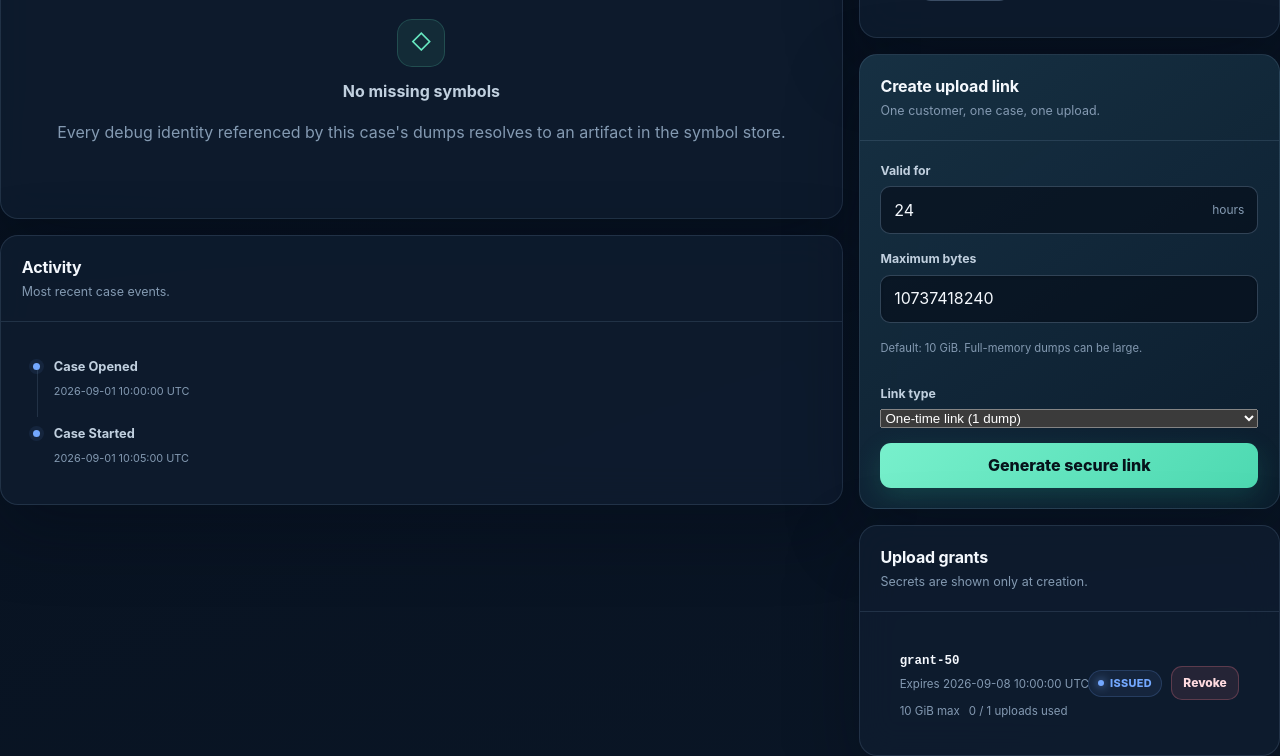
Test case: Upload grant operator flows › creates a batch grant via the bounded dumps-allowed field and shows slot usage
This screenshot has width=1280, height=756.
(page scrolled)
Expected: the text "0 / 1 uploads used" is shown, [969,703,1068,721]
Expected: the field labelled "Dumps allowed" is not shown
Select "Batch link (up to 128 dumps)" in the dropdown labelled "Link type" at [1069, 418], box [880,409,1258,428]
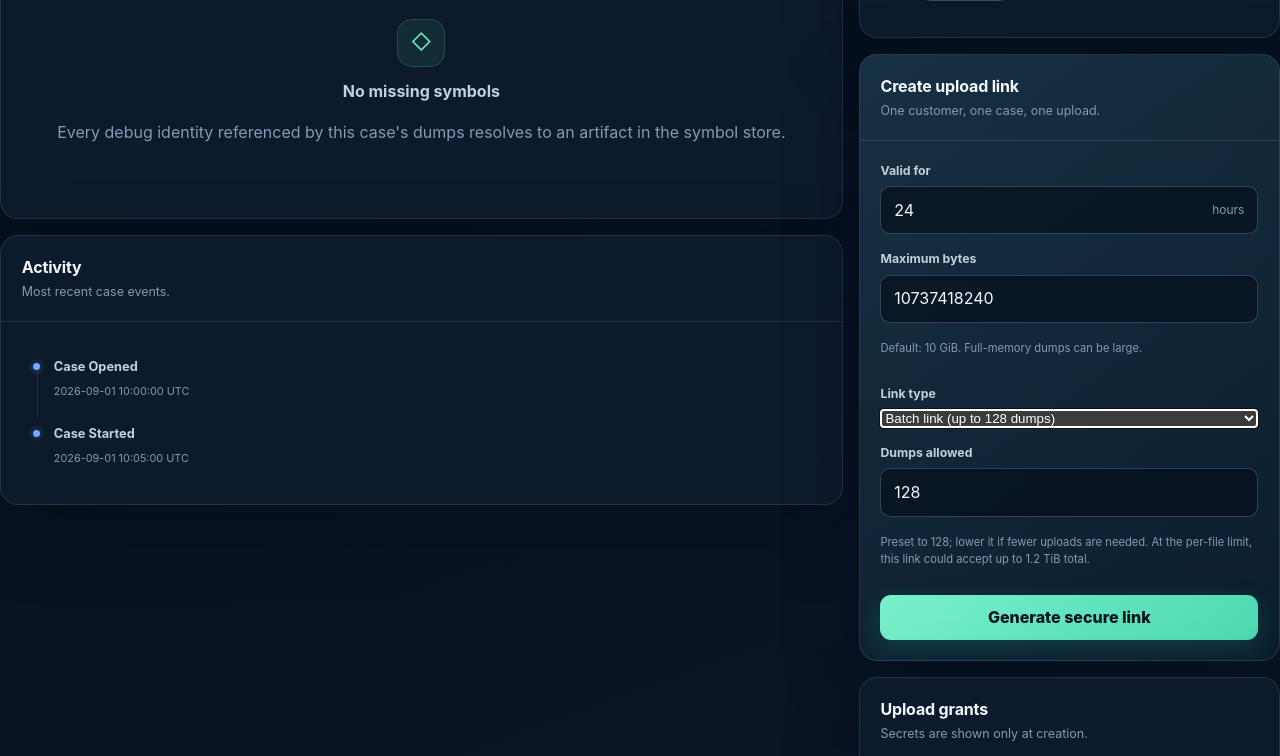
Result: the number field labelled "Dumps allowed" holds "128"
Replace the text in the number field labelled "Dumps allowed" with "3" at [1069, 492], box [880,468,1258,517]
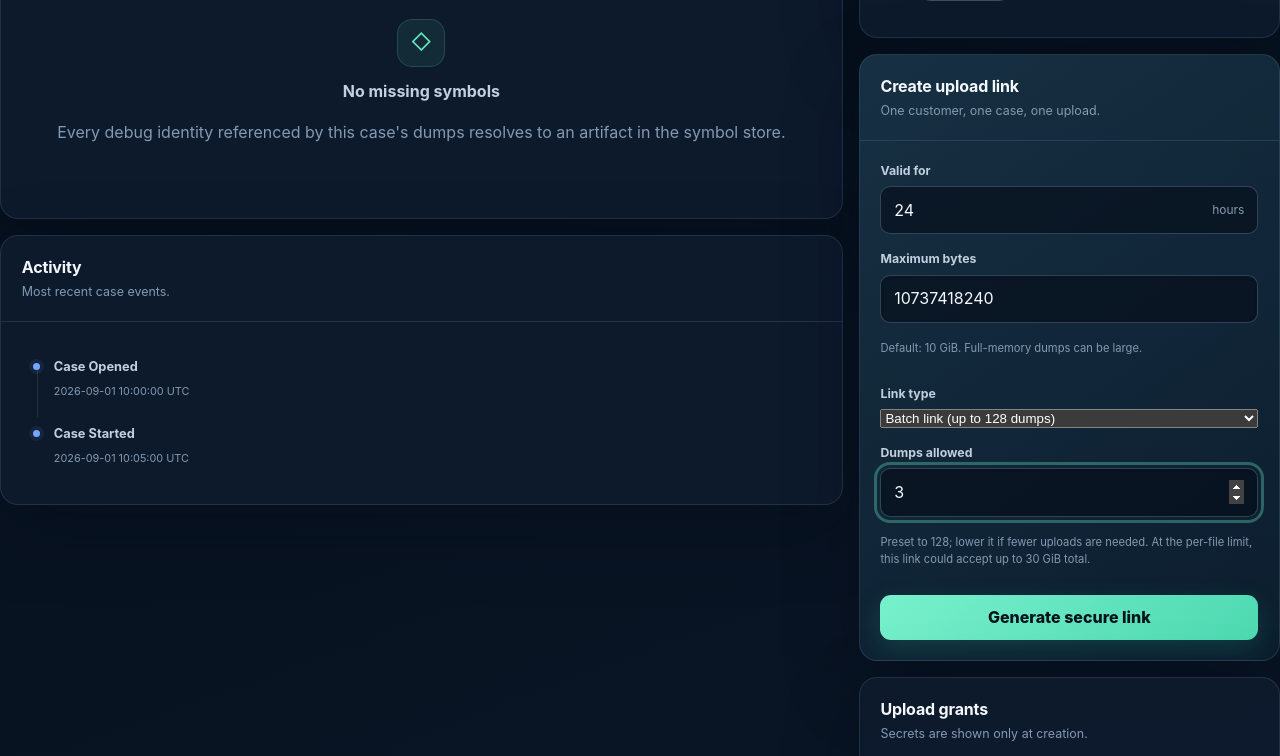
Click the button "Generate secure link".
click(1069, 617)  # box [880,595,1258,640]
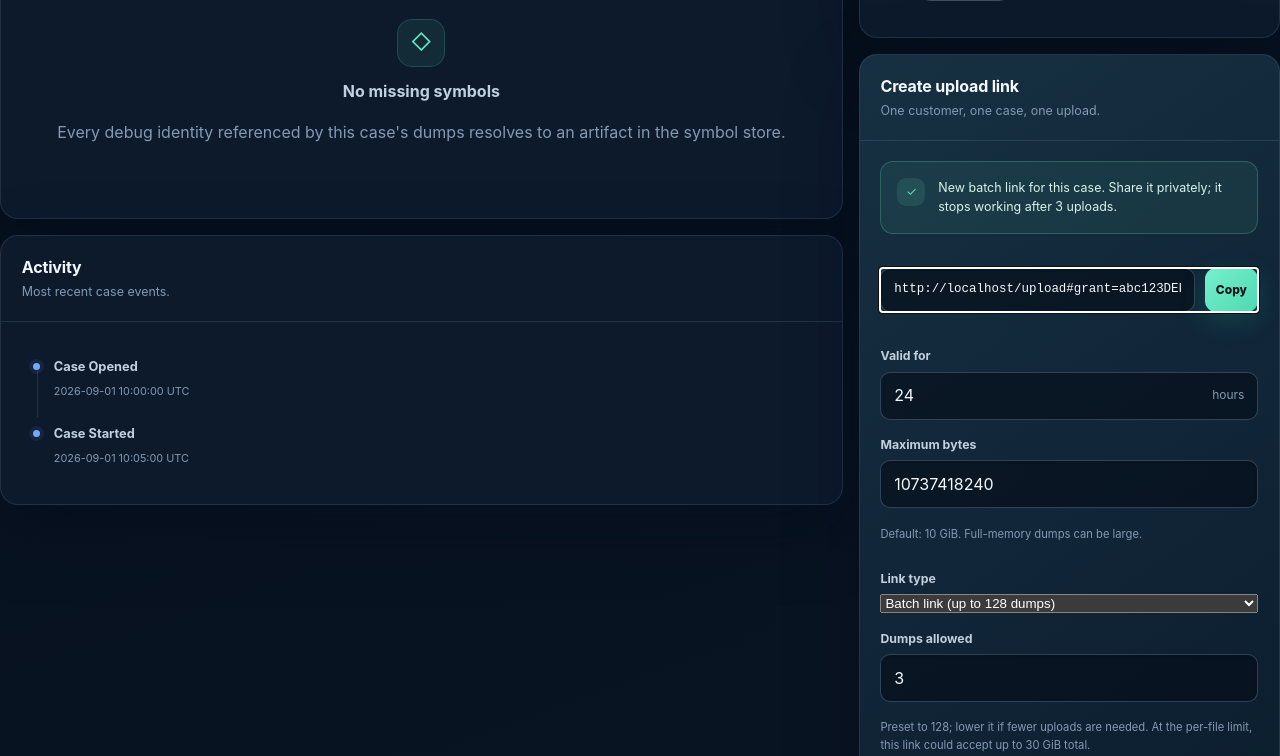
Result: the text "stops working after 3 uploads" is shown at [938,180,1222,214]
Note: Out-of-range slot counts are rejected before anything reaches the server.
Replace the text in the number field labelled "Dumps allowed" with "129" at [1069, 678], box [880,654,1258,702]
(page scrolled)
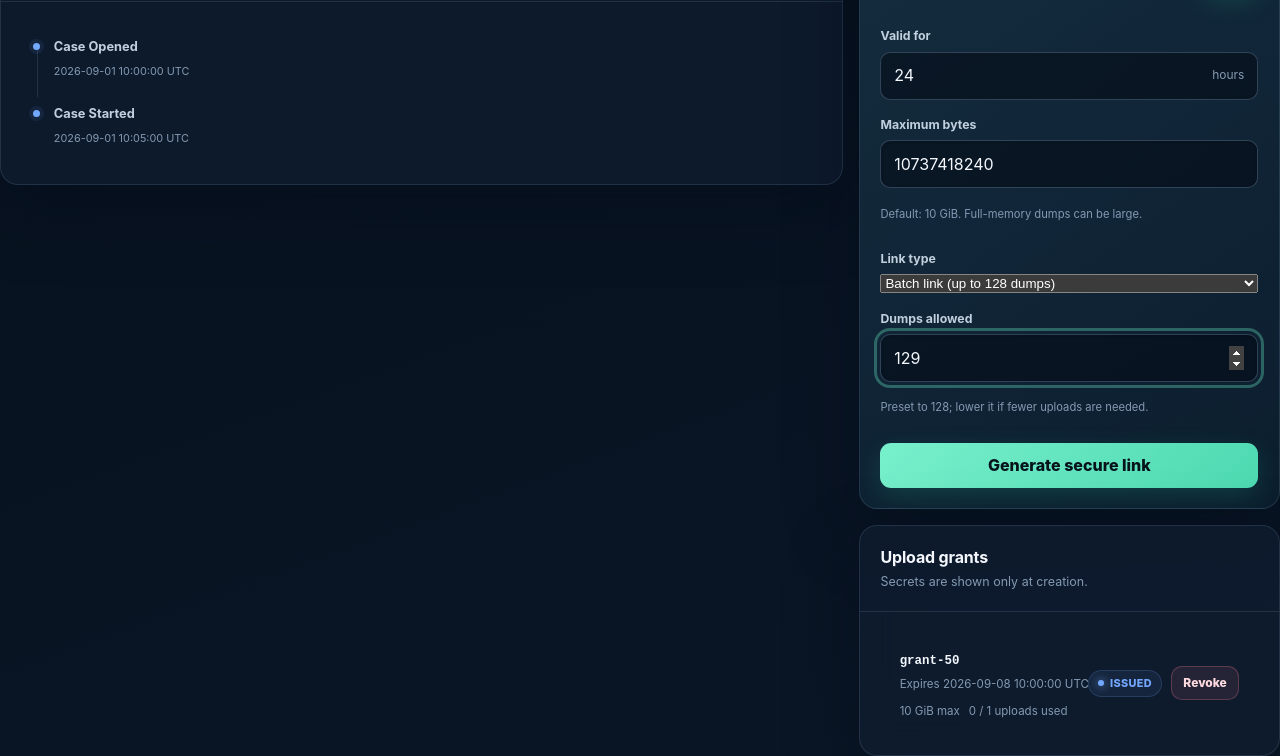
Click the button "Generate secure link".
click(1069, 465)  # box [880,443,1258,488]
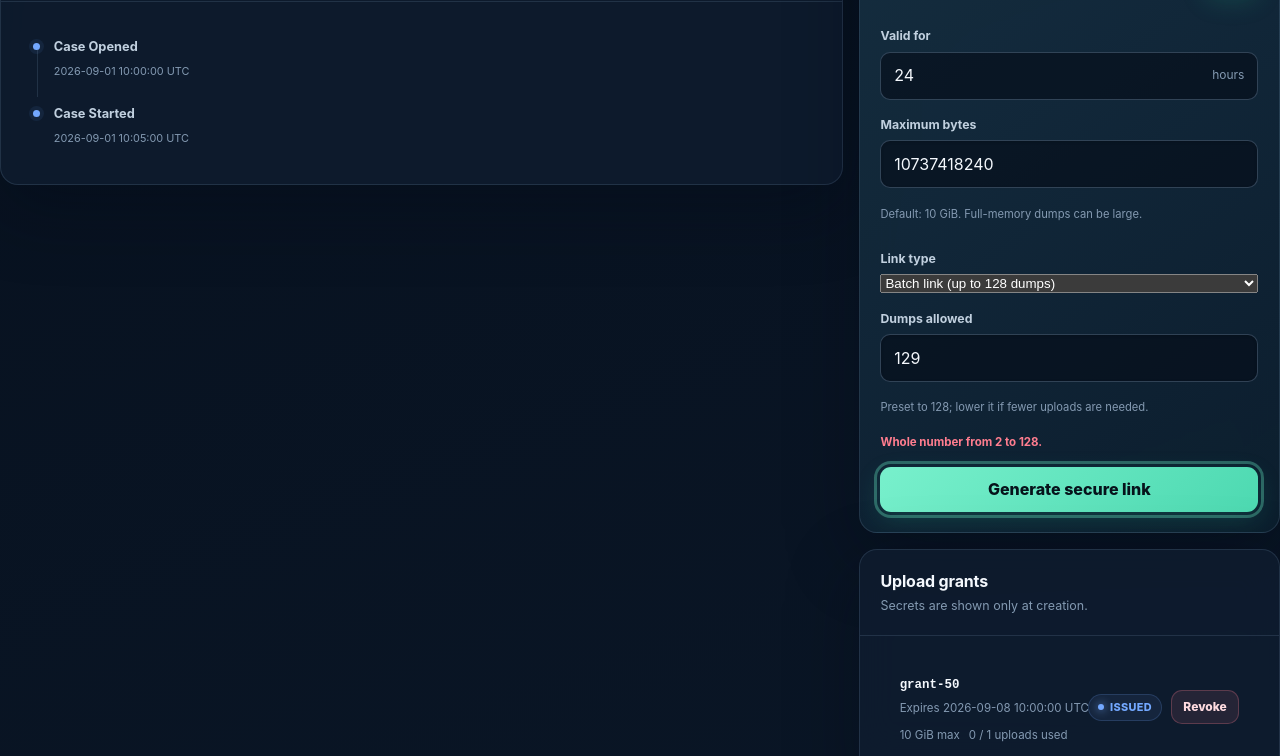
Result: the message reads "Whole number from 2 to 128." at [880,435,1042,449]
